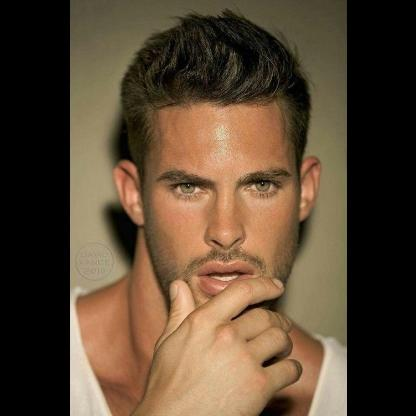Male: (116, 96, 320, 322)
